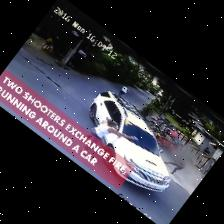person: (86, 120, 134, 144), (165, 161, 185, 175), (42, 38, 52, 49), (118, 86, 127, 96)
